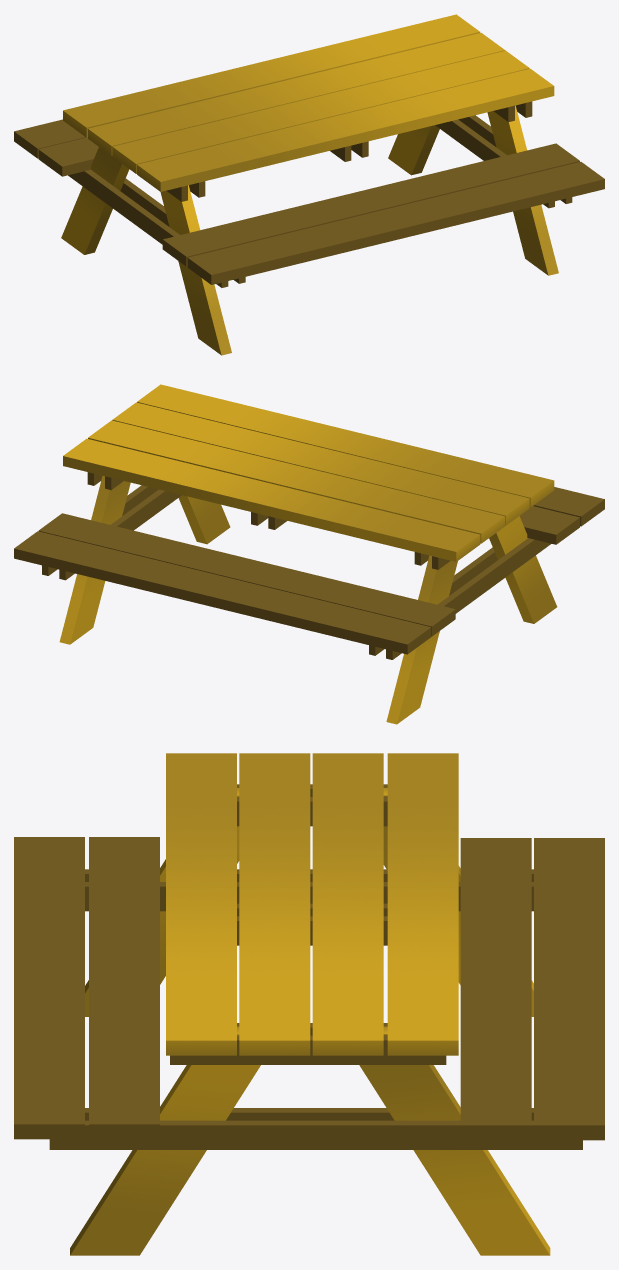
Rendered from ETC0210009.fbx.
3 renders of one model, top to bottom at view 1: azimuth 30°, elevation 25°; view 2: azimuth 150°, elevation 25°; view 3: azimuth 270°, elevation 25°, orthographic. The views are drawn at different scales.
Parts seen in each view (by area): view 1: smETC0210009; view 2: smETC0210009; view 3: smETC0210009.
Part boxes in pixels (left/top/right/bottom): smETC0210009: left=14, top=14, right=604, bottom=355; smETC0210009: left=14, top=384, right=604, bottom=724; smETC0210009: left=14, top=753, right=604, bottom=1255.
Size of the model in its own units: 302 by 115 by 262.
1 material, 1 textured.
